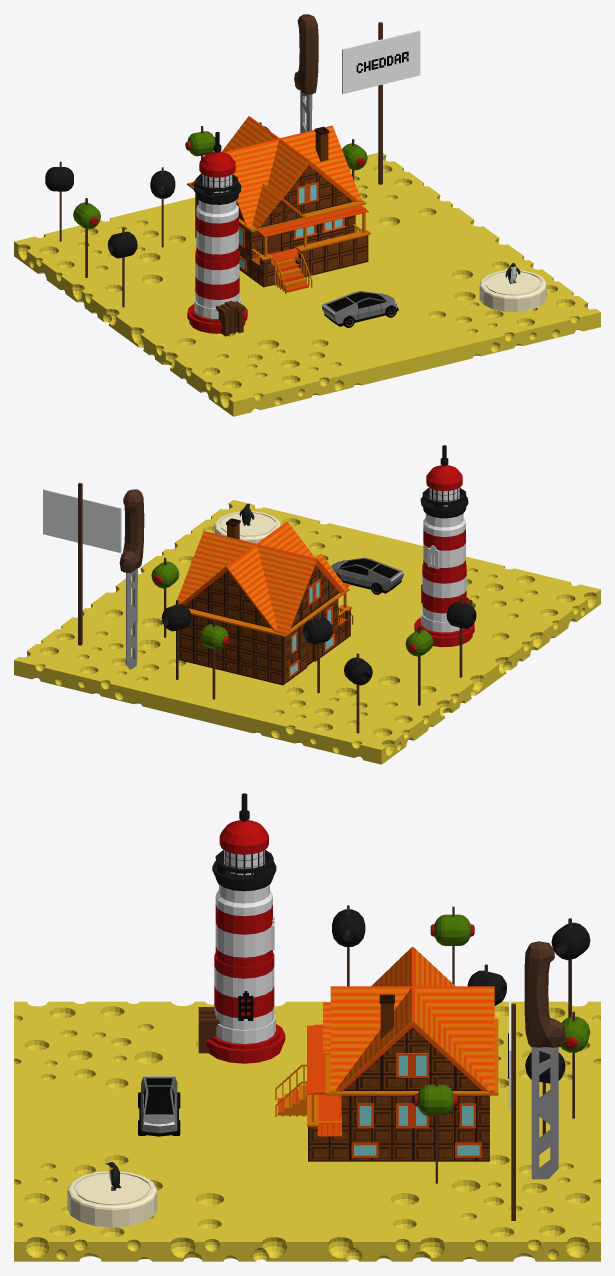
3 renders of one model, top to bottom at view 1: azimuth 30°, elevation 25°; view 2: azimuth 150°, elevation 25°; view 3: azimuth 270°, elevation 25°, orthographic. The views are drawn at different scales.
Visible parts, largest first — view 1: Cube.022, Cube, OBJRANDOM_LIGHTHOUSE, Cube.023, Cylinder.016, Cube.024, VEHICLES_CYBERTRUCK, Sphere.017, Sphere.016, Sphere.020, Sphere.018, Sphere.022 (+1 smaller); view 2: Cube.022, Cube, OBJRANDOM_LIGHTHOUSE, Cube.023, Cube.024, VEHICLES_CYBERTRUCK, Cylinder.016, Sphere.017, Sphere.016, Sphere.022, Sphere.020, Sphere.021 (+2 smaller); view 3: Cube.022, Cube, OBJRANDOM_LIGHTHOUSE, Cube.024, Cylinder.016, VEHICLES_CYBERTRUCK, Sphere.019, Cube.023, Sphere.016, Sphere.018, Sphere.017, Sphere.022 (+2 smaller).
Part boxes in pixels (left/top/right/bottom): Cube.022: left=14, top=152, right=600, bottom=416; Cube: left=187, top=116, right=370, bottom=293; OBJRANDOM_LIGHTHOUSE: left=187, top=131, right=247, bottom=336; Cube.023: left=342, top=22, right=420, bottom=184; Cylinder.016: left=479, top=270, right=546, bottom=311; Cube.024: left=294, top=14, right=318, bottom=133; VEHICLES_CYBERTRUCK: left=322, top=290, right=398, bottom=327; Sphere.017: left=107, top=227, right=137, bottom=307; Sphere.016: left=45, top=161, right=73, bottom=241; Sphere.020: left=150, top=167, right=175, bottom=247; Sphere.018: left=73, top=198, right=100, bottom=277; Sphere.022: left=185, top=126, right=215, bottom=159; Cube.022: left=14, top=500, right=600, bottom=764; Cube: left=174, top=518, right=353, bottom=685; OBJRANDOM_LIGHTHOUSE: left=414, top=445, right=474, bottom=647; Cube.023: left=43, top=482, right=121, bottom=645; Cube.024: left=119, top=489, right=144, bottom=669; VEHICLES_CYBERTRUCK: left=331, top=557, right=403, bottom=594; Cylinder.016: left=214, top=511, right=280, bottom=543; Sphere.017: left=446, top=597, right=476, bottom=677; Sphere.016: left=344, top=653, right=372, bottom=733; Sphere.022: left=199, top=619, right=229, bottom=699; Sphere.020: left=303, top=613, right=332, bottom=693; Sphere.021: left=161, top=600, right=191, bottom=679; Cube.022: left=14, top=1001, right=600, bottom=1261; Cube: left=275, top=947, right=498, bottom=1161; OBJRANDOM_LIGHTHOUSE: left=198, top=793, right=285, bottom=1063; Cube.024: left=524, top=941, right=565, bottom=1179; Cylinder.016: left=67, top=1171, right=157, bottom=1227; VEHICLES_CYBERTRUCK: left=138, top=1076, right=180, bottom=1136; Sphere.019: left=413, top=1076, right=457, bottom=1183; Cube.023: left=508, top=1000, right=515, bottom=1220; Sphere.016: left=551, top=918, right=590, bottom=1017; Sphere.018: left=430, top=906, right=474, bottom=984; Sphere.017: left=332, top=905, right=365, bottom=986; Sphere.022: left=561, top=1011, right=590, bottom=1118.
Size of the model in its own units: 3917 by 2154 by 4000.
Materials: 35 (5 with a texture image).
